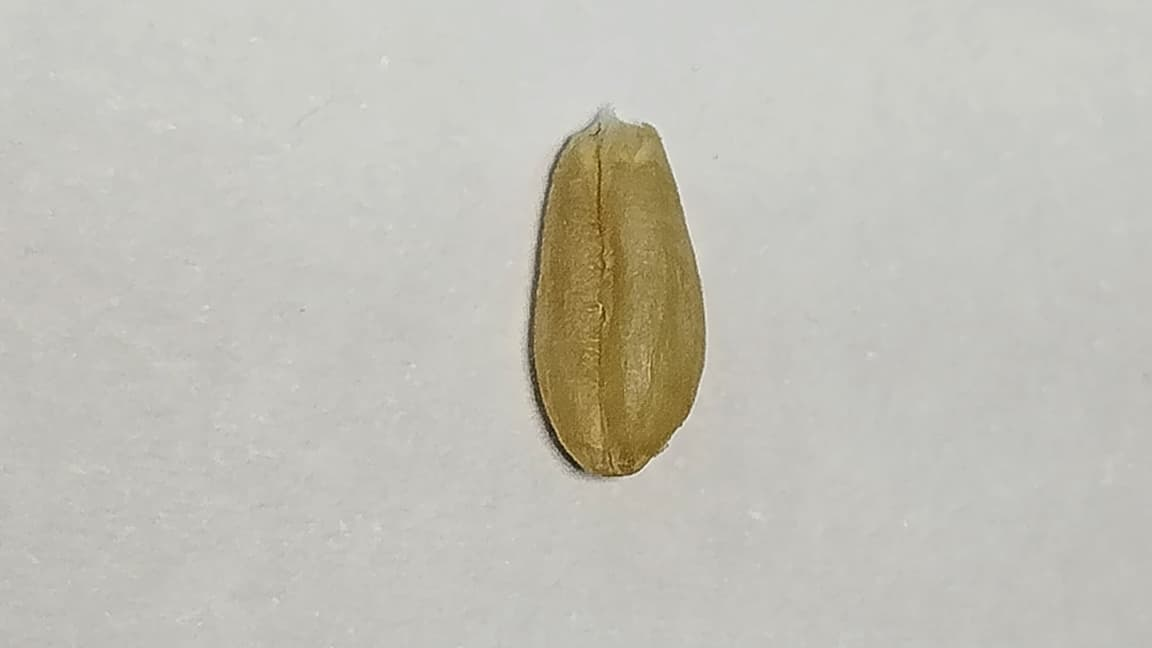healthy: (531, 118, 704, 475)
